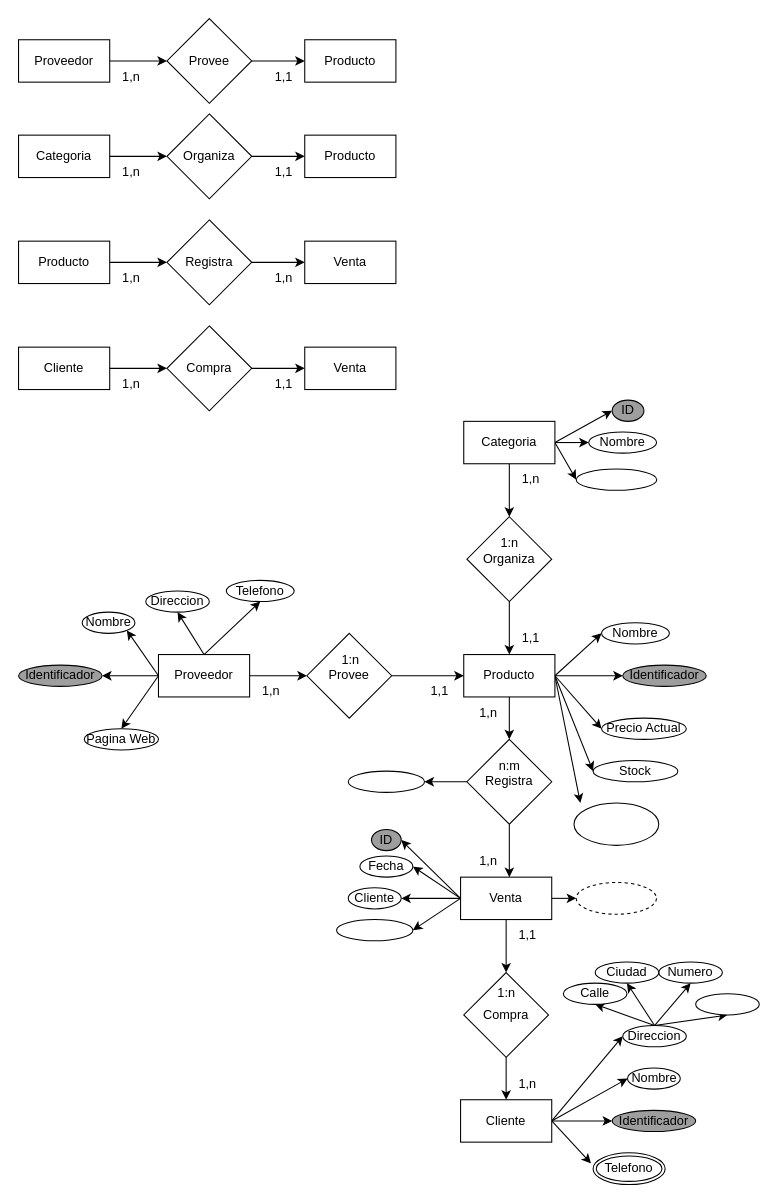
The diagram is 778 pixels wide and 1203 high, and some of its shapes have lost their labels. Each missing label, with the centre of its shape:
"Cantidad" goes at (x=386, y=781).
"Descripcion" goes at (x=616, y=479).
"Descuento" goes at (x=374, y=929).
"Nombre del proveedor" goes at (x=616, y=823).
"Precio Total" goes at (x=615, y=897).
"Provincia" goes at (x=727, y=1004).
